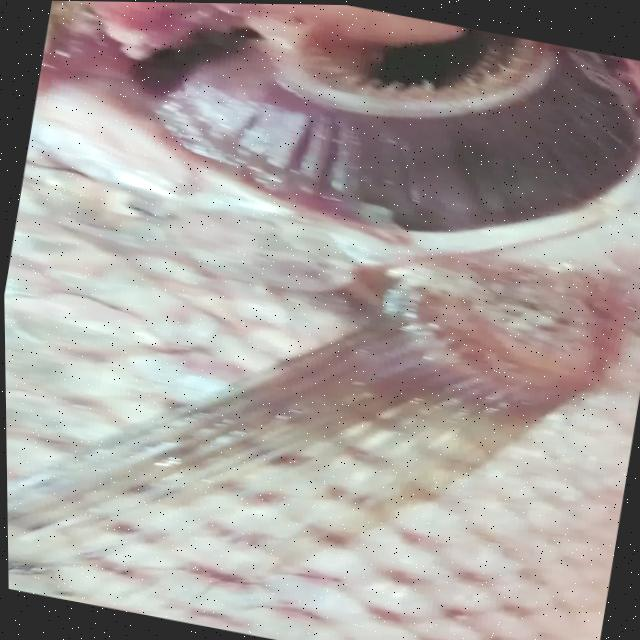Non-Fresh: (153, 2, 640, 282)
